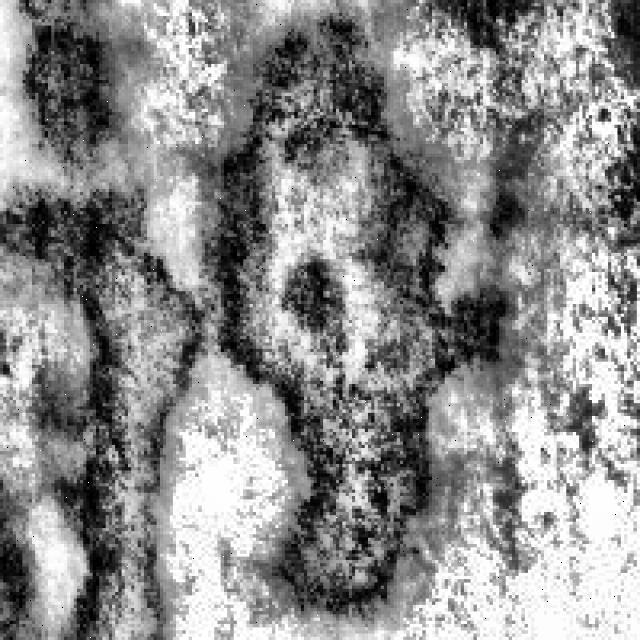Scratches: (208, 6, 522, 618), (6, 147, 205, 634), (9, 0, 148, 176)
